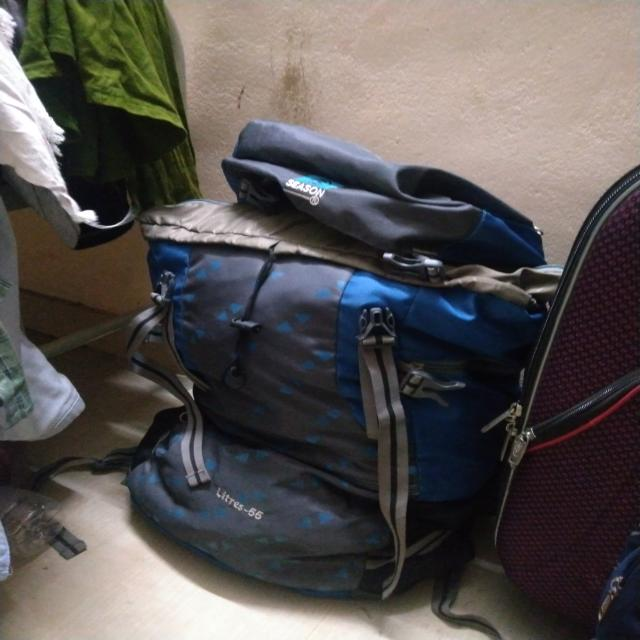suitcaserotation: (30, 115, 566, 609), (476, 159, 640, 610)
